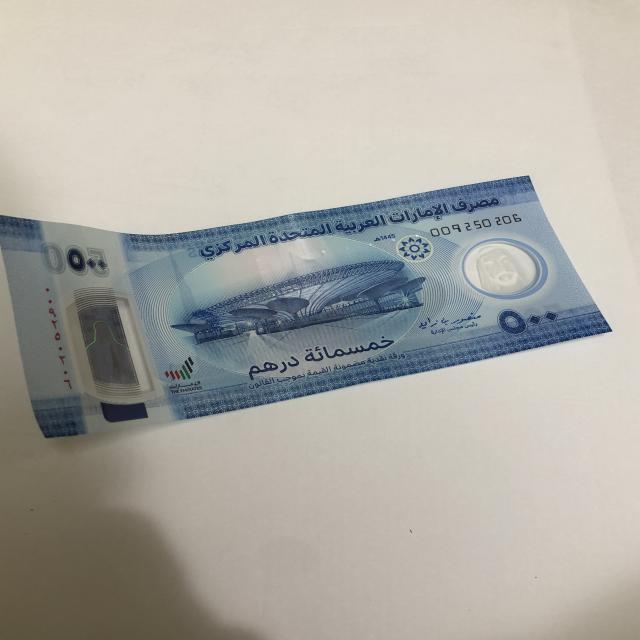500_AED: (5, 172, 620, 447)
